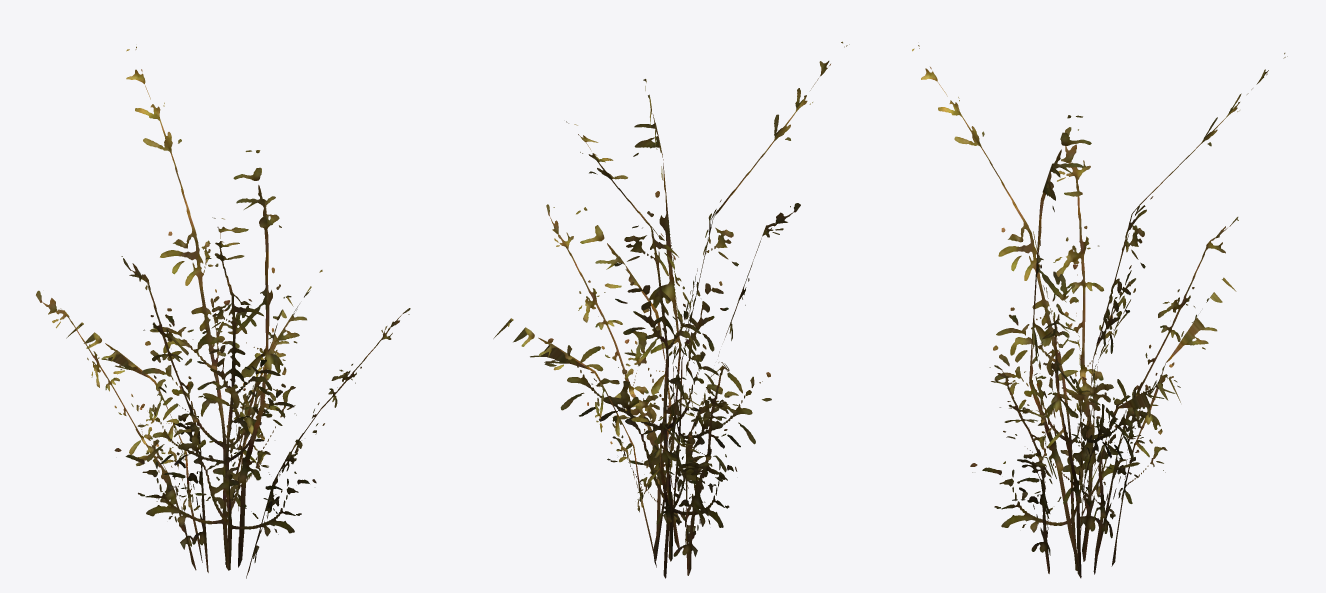
3 views of the same model, side by side, from view 1: azimuth 30°, elevation 25°; view 2: azimuth 150°, elevation 25°; view 3: azimuth 270°, elevation 25° (orthographic). The views are drawn at different scales.
Parts seen in each view (by area): view 1: root; view 2: root; view 3: root.
Boxes of the visible parts, x1=… form: root: x1=36, y1=46, x2=410, y2=578; root: x1=493, y1=41, x2=849, y2=578; root: x1=912, y1=45, x2=1287, y2=578.
Size of the model in its own units: 0.7769 by 1.2 by 0.8295.
Materials: 1 (1 with a texture image).
